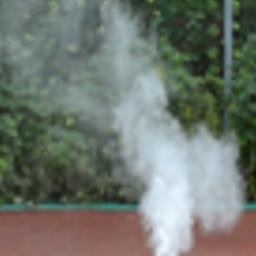smoke: (10, 1, 244, 256)
